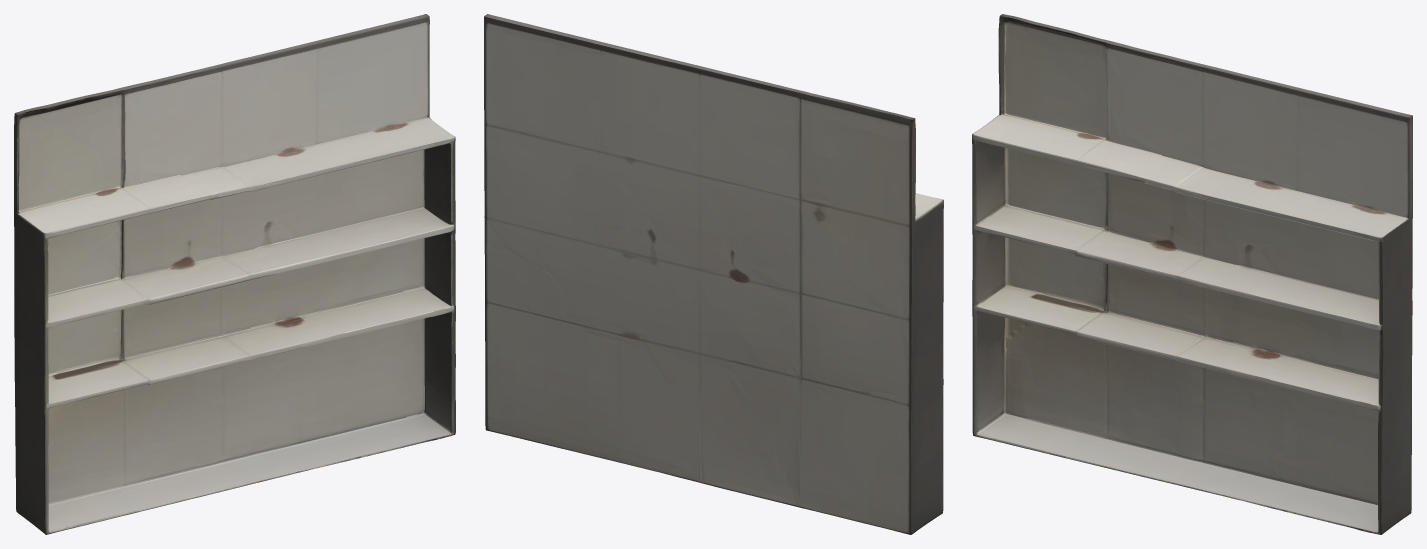
3 renders of one model, left to right at view 1: azimuth 30°, elevation 25°; view 2: azimuth 150°, elevation 25°; view 3: azimuth 330°, elevation 25°, orthographic. The views are drawn at different scales.
Visible parts, largest first — view 1: geometry_0; view 2: geometry_0; view 3: geometry_0.
Boxes of the visible parts, <box> form: geometry_0: <box>14,14,455,534</box>; geometry_0: <box>484,14,943,534</box>; geometry_0: <box>972,14,1412,534</box>.
Bounding box in the file's own units: 1 × 0.9293 × 0.1319.
1 material, 1 textured.
